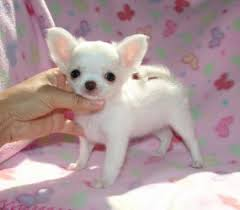chihuahua: (36, 22, 209, 187)
